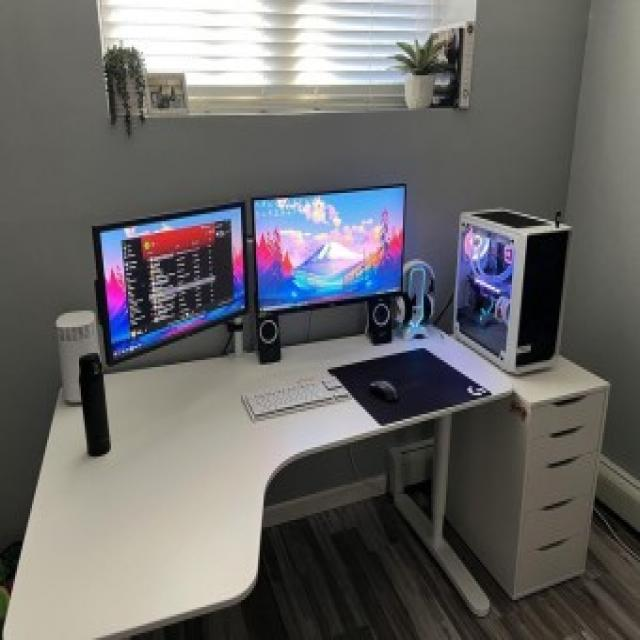Computer: (448, 198, 578, 378)
Monitor: (86, 198, 250, 370), (253, 177, 411, 329)
